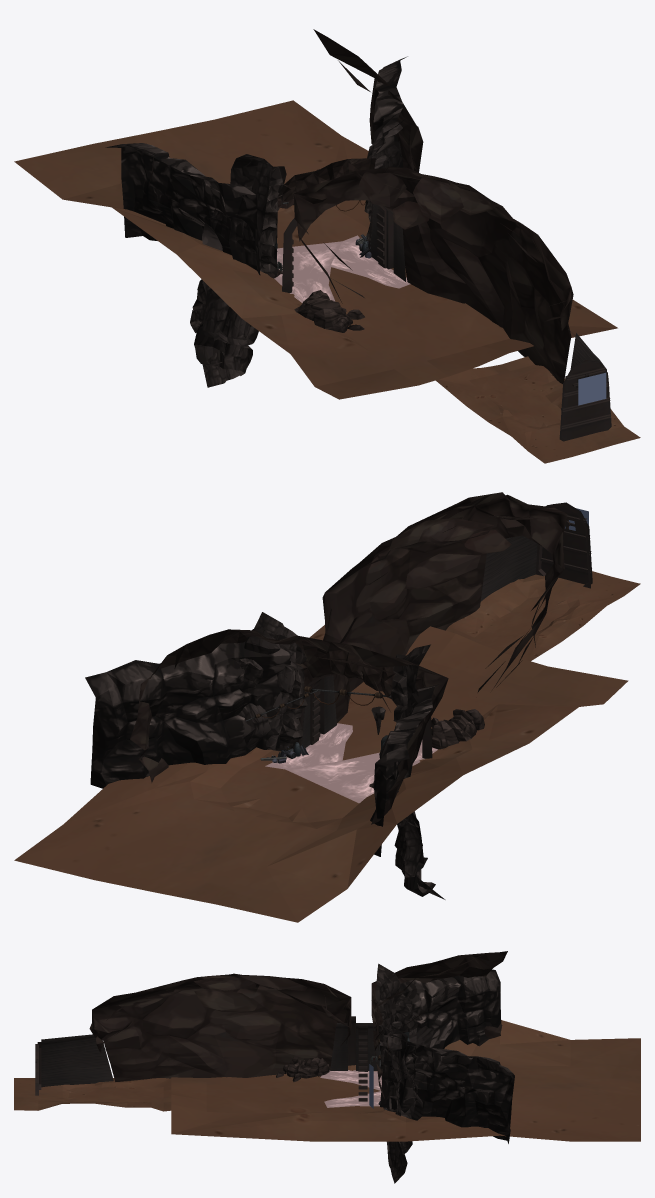
File: env_tat_rancor.glb
3 views of the same model, one above another, from view 1: azimuth 30°, elevation 25°; view 2: azimuth 150°, elevation 25°; view 3: azimuth 270°, elevation 25° (orthographic). The views are drawn at different scales.
Visible parts, largest first — view 1: tat_rancor_grnd_mesh, tat_ranc_wall_02_mesh (1), sul_rockwall_01_mesh (1), tat_rancor_grnd_mesh (1), sul_rock_02_mesh, tat_ranc_door_02_mesh, tat_ranc_door_01b_mesh, tat_ranc_door_half_01_mesh, vfx_groud_Steam_02, sul_rock_06_mesh (4), tat_ranc_wall_arch_01_mesh, vfx_ground_Steam_01 (+3 smaller); view 2: tat_rancor_grnd_mesh, tat_ranc_wall_02_mesh (1), sul_rockwall_01_mesh, tat_rancor_grnd_mesh (1), tat_ranc_door_half_01_mesh, sul_rock_02_mesh (1), tat_ranc_door_02_mesh, sul_rock_02_mesh, sul_rockwall_01_mesh (1), vfx_groud_Steam_02, tat_ranc_door_01b_mesh, tat_ranc_wall_arch_01_mesh (+2 smaller); view 3: tat_rancor_grnd_mesh, tat_ranc_wall_02_mesh (1), sul_rockwall_01_mesh, sul_rockwall_01_mesh (1), tat_rancor_grnd_mesh (1), tat_ranc_door_02_mesh, tat_ranc_door_half_01_mesh, sul_rock_02_mesh (1), tat_ranc_door_01b_mesh, sul_rock_02_mesh, sul_rock_06_mesh (4), vfx_groud_Steam_02 (+1 smaller).
Boxes of the visible parts, x1,y1,x2,y2 form: tat_rancor_grnd_mesh: (14,100,617,399); tat_ranc_wall_02_mesh (1): (293,166,573,383); sul_rockwall_01_mesh (1): (105,143,260,275); tat_rancor_grnd_mesh (1): (433,356,640,463); sul_rock_02_mesh: (190,154,286,387); tat_ranc_door_02_mesh: (559,329,611,441); tat_ranc_door_01b_mesh: (282,203,405,292); tat_ranc_door_half_01_mesh: (148,29,423,187); vfx_groud_Steam_02: (274,241,342,302); sul_rock_06_mesh (4): (294,290,364,332); tat_ranc_wall_arch_01_mesh: (277,158,375,208); vfx_ground_Steam_01: (331,235,410,288); tat_rancor_grnd_mesh: (14,625,628,922); tat_ranc_wall_02_mesh (1): (322,492,567,723); sul_rockwall_01_mesh: (85,641,291,788); tat_rancor_grnd_mesh (1): (446,571,640,663); tat_ranc_door_half_01_mesh: (130,629,448,824); sul_rock_02_mesh (1): (238,612,307,751); tat_ranc_door_02_mesh: (480,502,592,601); sul_rock_02_mesh: (390,644,445,899); sul_rockwall_01_mesh (1): (370,684,438,856); vfx_groud_Steam_02: (285,740,437,803); tat_ranc_door_01b_mesh: (299,674,432,758); tat_ranc_wall_arch_01_mesh: (307,648,395,698); tat_rancor_grnd_mesh: (171,1020,640,1141); tat_ranc_wall_02_mesh (1): (89,973,351,1081); sul_rockwall_01_mesh: (379,1035,514,1143); sul_rockwall_01_mesh (1): (390,969,501,1048); tat_rancor_grnd_mesh (1): (14,1078,171,1111); tat_ranc_door_02_mesh: (35,1034,113,1095); tat_ranc_door_half_01_mesh: (371,951,507,1109); sul_rock_02_mesh (1): (379,1024,423,1183); tat_ranc_door_01b_mesh: (330,1016,380,1101); sul_rock_02_mesh: (375,963,433,1046); sul_rock_06_mesh (4): (276,1056,329,1081); vfx_groud_Steam_02: (320,1070,381,1090).
Bounding box in the file's own units: 40.94 × 33.94 × 98.82.
14 materials, 14 textured.
